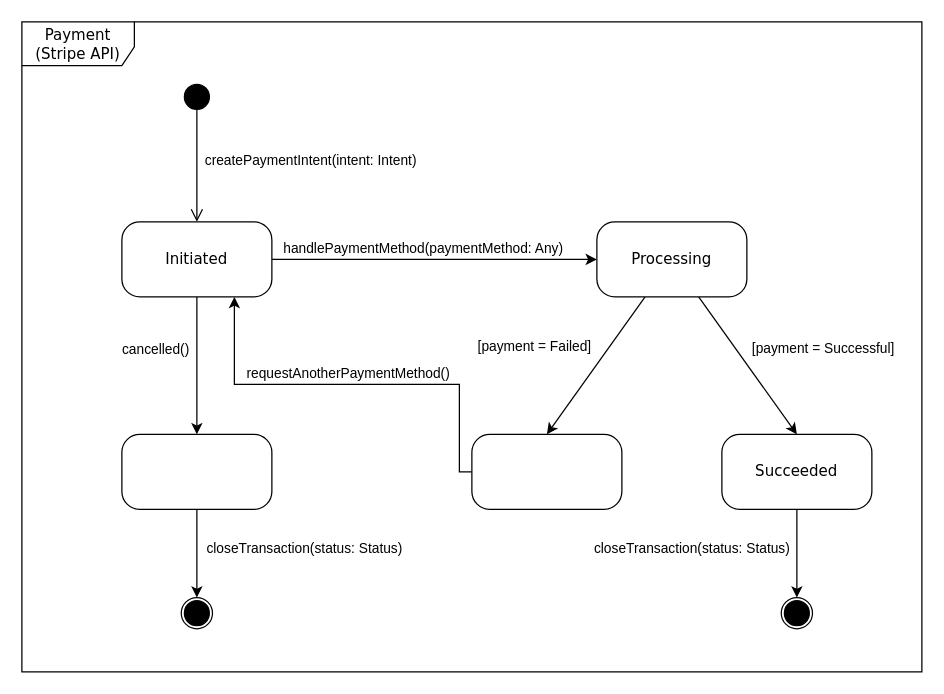
Image size: 944x694. Some labels were removed from this diagram. Here are the shapes that lost their labels. From the top down, the centre of each, then its label:
(x=196, y=471): Cancelled
(x=546, y=471): Failed
